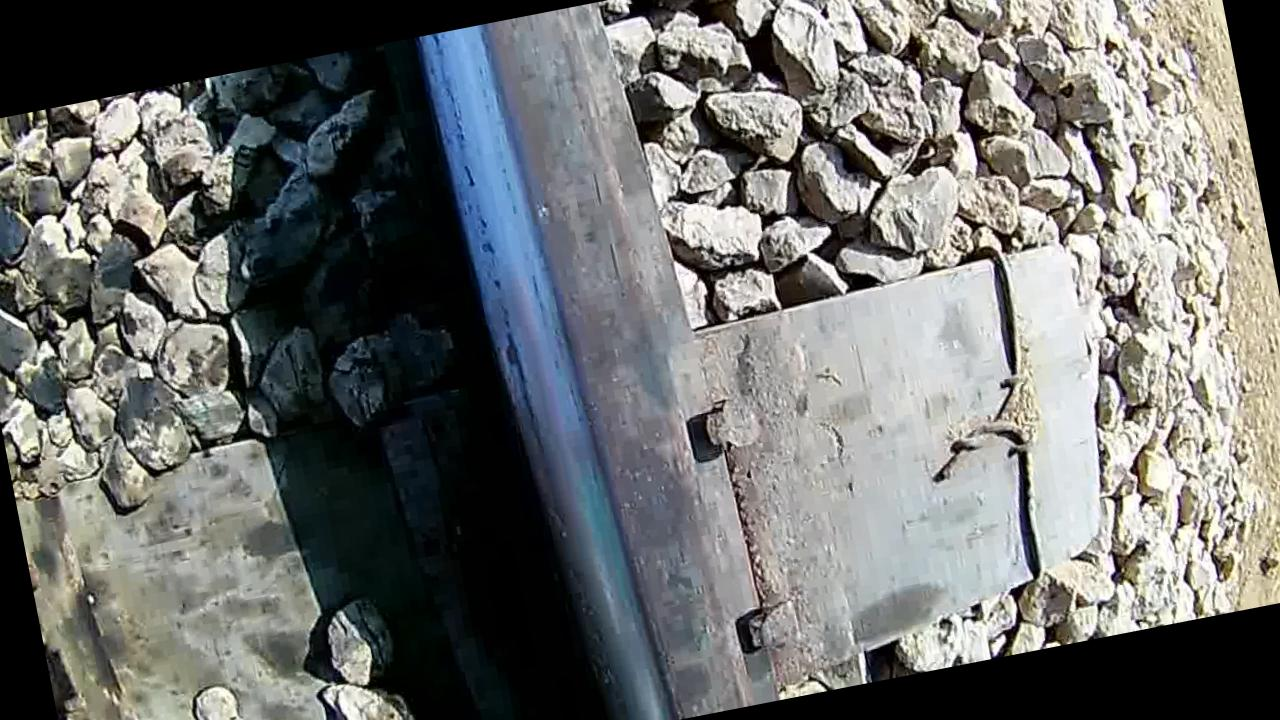crack: (416, 4, 720, 720)
